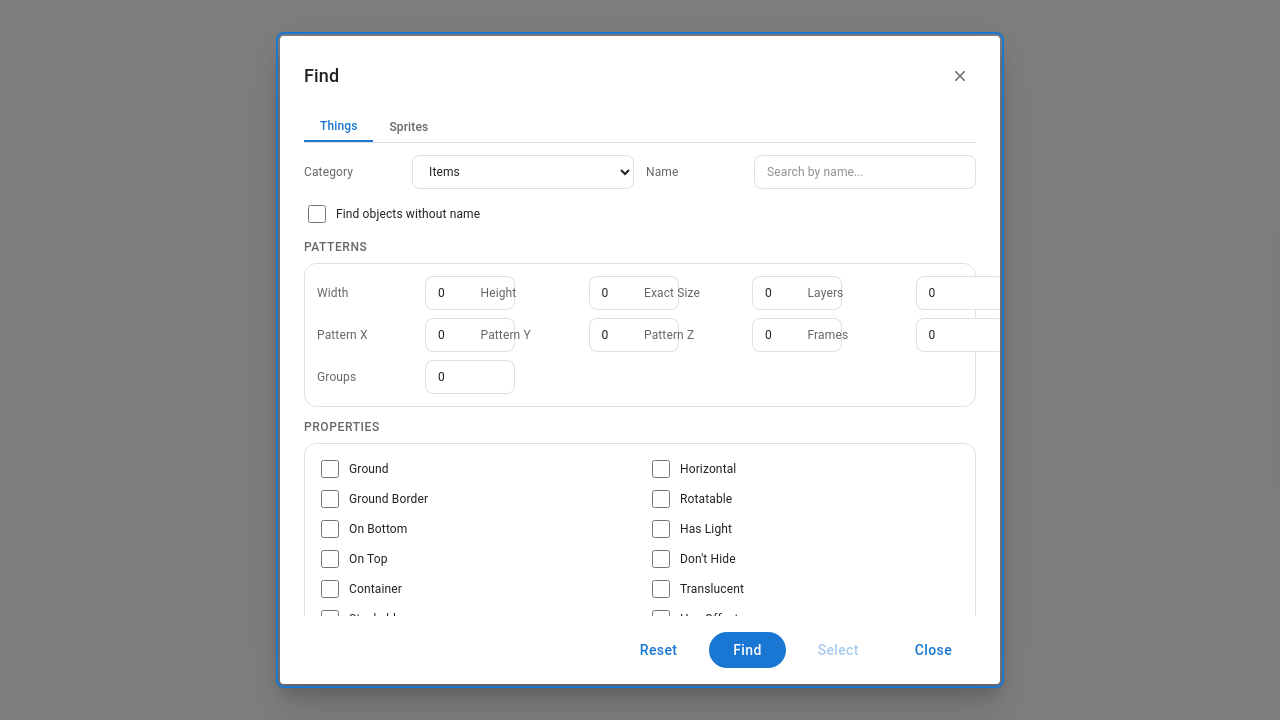
FindDialog › switching to Sprites tab shows unused/empty sprite checkboxes
Click the button "Sprites": [409, 127] box [374,112,444,142]
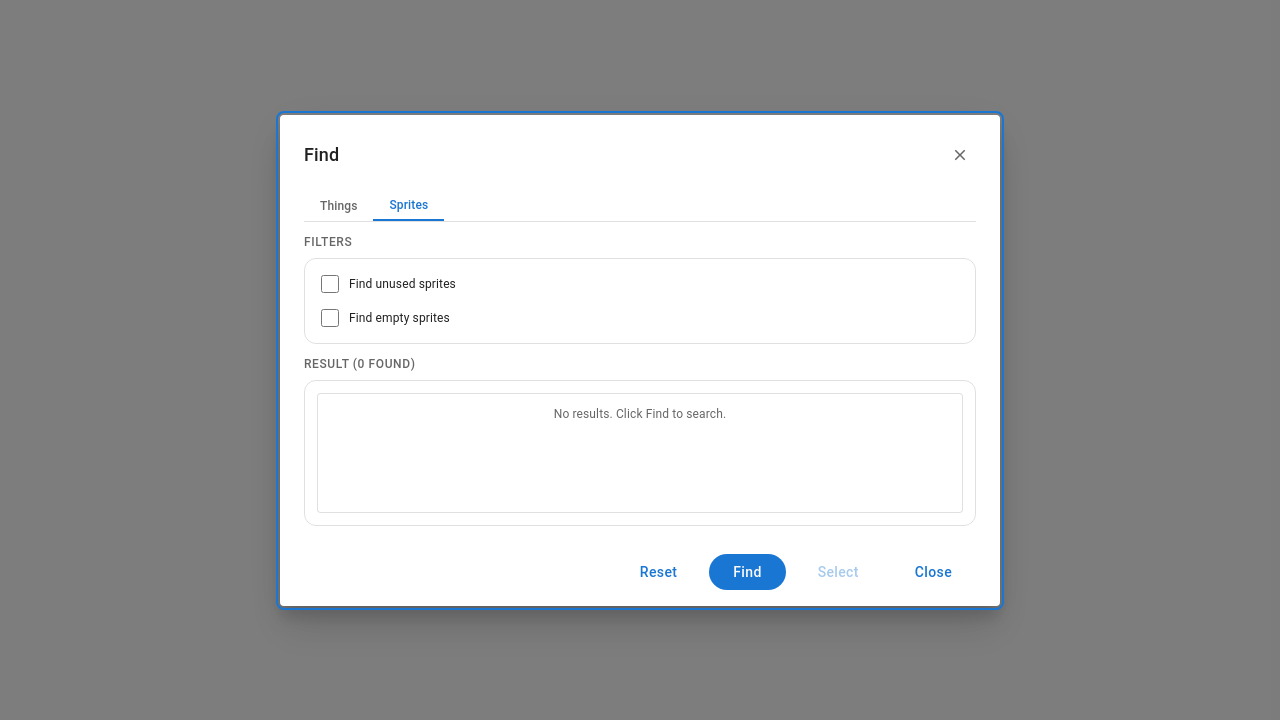
Expected: the text "Find unused sprites" is shown, [349,276,456,292]
Expected: the text "Find empty sprites" is shown, [349,310,450,326]
Expected: the text "Category" is gone
